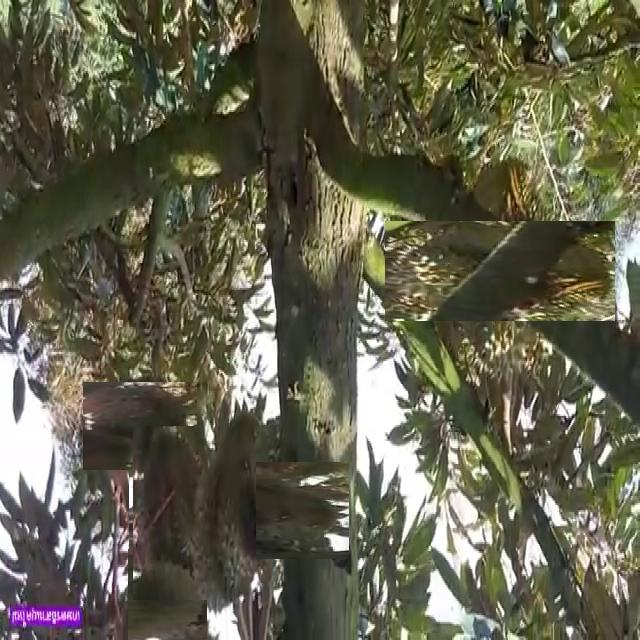durian: (417, 188, 583, 353), (160, 431, 319, 590), (133, 426, 256, 600), (89, 375, 191, 476), (123, 555, 214, 640)
